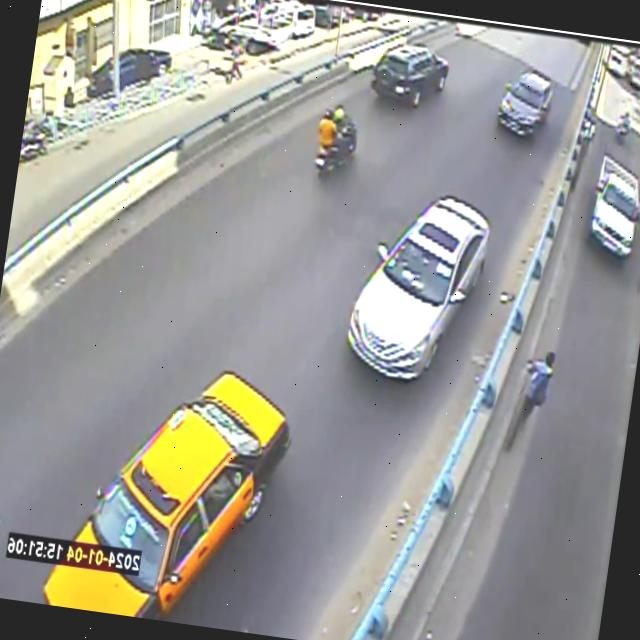car: (44, 373, 291, 620), (349, 195, 490, 379), (371, 46, 449, 107), (499, 68, 553, 135)
